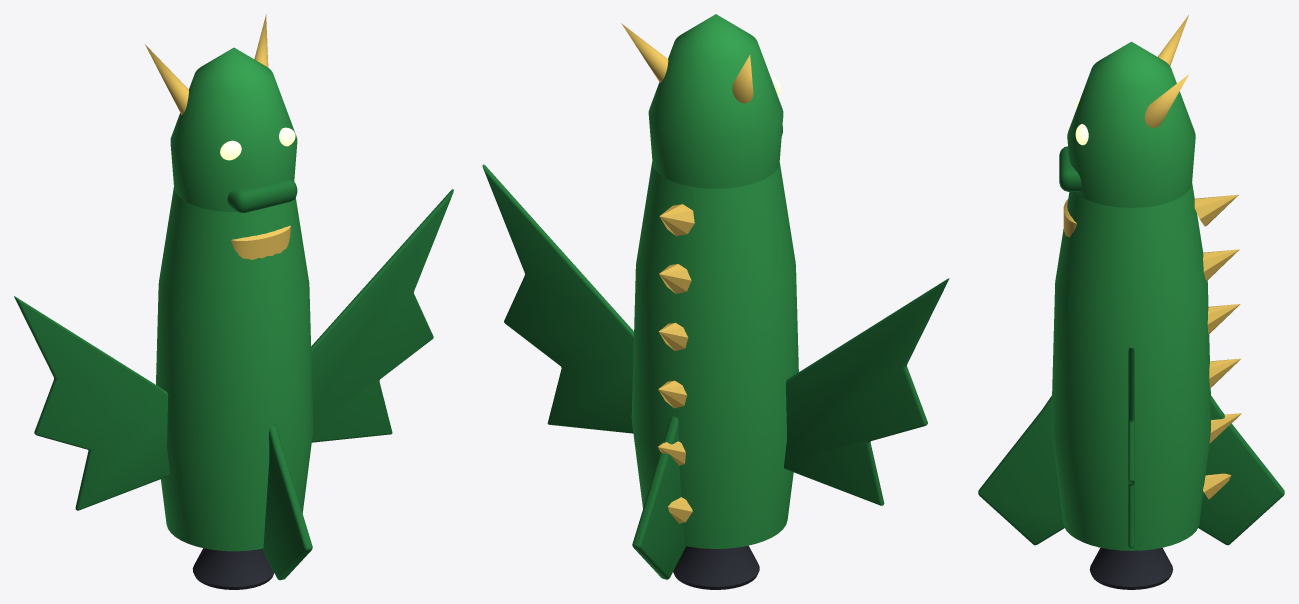
Rendered from Rocket_31_Dragon.fbx.
The picture shows the model from 3 angles, left to right: view 1: azimuth 30°, elevation 25°; view 2: azimuth 150°, elevation 25°; view 3: azimuth 270°, elevation 25°; orthographic projection. The views are drawn at different scales.
Visible parts, largest first — view 1: R31_Body, R31_Wing_2, R31_Wing, R31_Head, R31_Fin_2, R31_Nozzle, R31_Jaw, R31_Belly, R31_Horn_2; view 2: R31_Body, R31_Wing_2, R31_Head, R31_Wing, R31_Fin, R31_Nozzle, R31_BackSpike_6, R31_Horn, R31_Horn_2, R31_BackSpike_5; view 3: R31_Body, R31_Head, R31_Fin_2, R31_Fin, R31_Nozzle, R31_Wing, R31_Horn, R31_BackSpike_6, R31_Jaw, R31_BackSpike_5, R31_BackSpike_4, R31_BackSpike_3 (+2 smaller).
Part boxes in pixels (box(x1,y1,x2,y2)): R31_Body: box(156, 187, 313, 551); R31_Wing_2: box(14, 296, 169, 510); R31_Wing: box(311, 189, 453, 442); R31_Head: box(170, 47, 297, 211); R31_Fin_2: box(262, 426, 312, 580); R31_Nozzle: box(192, 548, 274, 589); R31_Jaw: box(227, 177, 297, 212); R31_Belly: box(231, 225, 290, 259); R31_Horn_2: box(145, 44, 188, 114); R31_Body: box(631, 162, 798, 548); R31_Wing_2: box(784, 278, 949, 505); R31_Head: box(648, 14, 783, 188); R31_Wing: box(482, 164, 633, 433); R31_Fin: box(632, 416, 686, 579); R31_Nozzle: box(673, 545, 759, 589); R31_BackSpike_6: box(659, 204, 694, 236); R31_Horn: box(621, 23, 668, 82); R31_Horn_2: box(732, 55, 753, 103); R31_BackSpike_5: box(659, 264, 691, 293); R31_Body: box(1051, 183, 1211, 550); R31_Head: box(1067, 41, 1195, 207); R31_Fin_2: box(978, 396, 1064, 545); R31_Fin: box(1198, 396, 1284, 545); R31_Nozzle: box(1089, 548, 1173, 589); R31_Wing: box(1128, 347, 1134, 548); R31_Horn: box(1145, 74, 1188, 127); R31_BackSpike_6: box(1194, 194, 1238, 226); R31_Jaw: box(1059, 146, 1081, 191); R31_BackSpike_5: box(1203, 249, 1239, 280); R31_BackSpike_4: box(1207, 304, 1240, 334); R31_BackSpike_3: box(1209, 358, 1240, 387).
Bounding box in the file's own units: 6.38 × 7.3 × 3.81.
